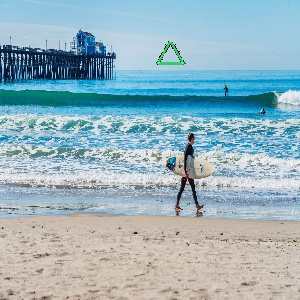triangle: (152, 37, 187, 69)
